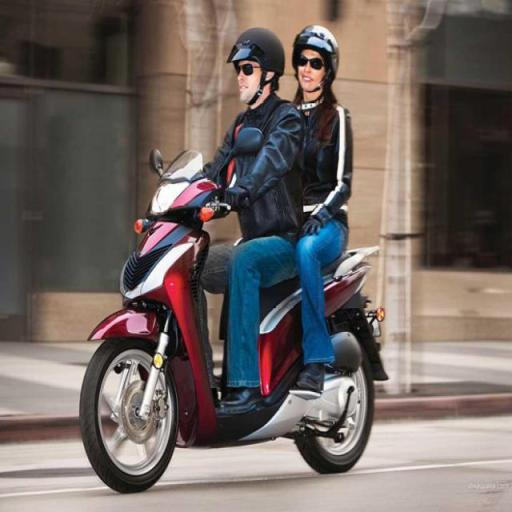with helmet: (289, 23, 364, 72), (224, 23, 290, 76)
